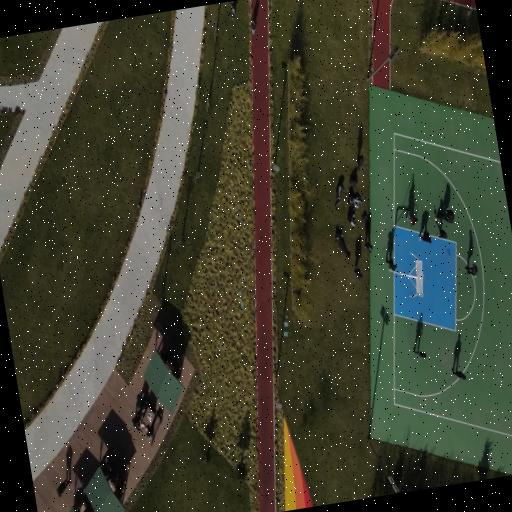person: (335, 229, 350, 258), (335, 182, 344, 208), (436, 217, 447, 238), (132, 412, 144, 431), (347, 193, 362, 207), (57, 480, 69, 496), (442, 208, 454, 222), (452, 367, 466, 379), (406, 211, 417, 225), (419, 230, 431, 242), (466, 264, 478, 276), (364, 236, 373, 252), (354, 263, 363, 279), (386, 257, 397, 270), (348, 209, 356, 225), (349, 172, 358, 186), (357, 154, 364, 170), (229, 1, 236, 17), (414, 348, 426, 357), (362, 210, 369, 225), (251, 17, 256, 33)
